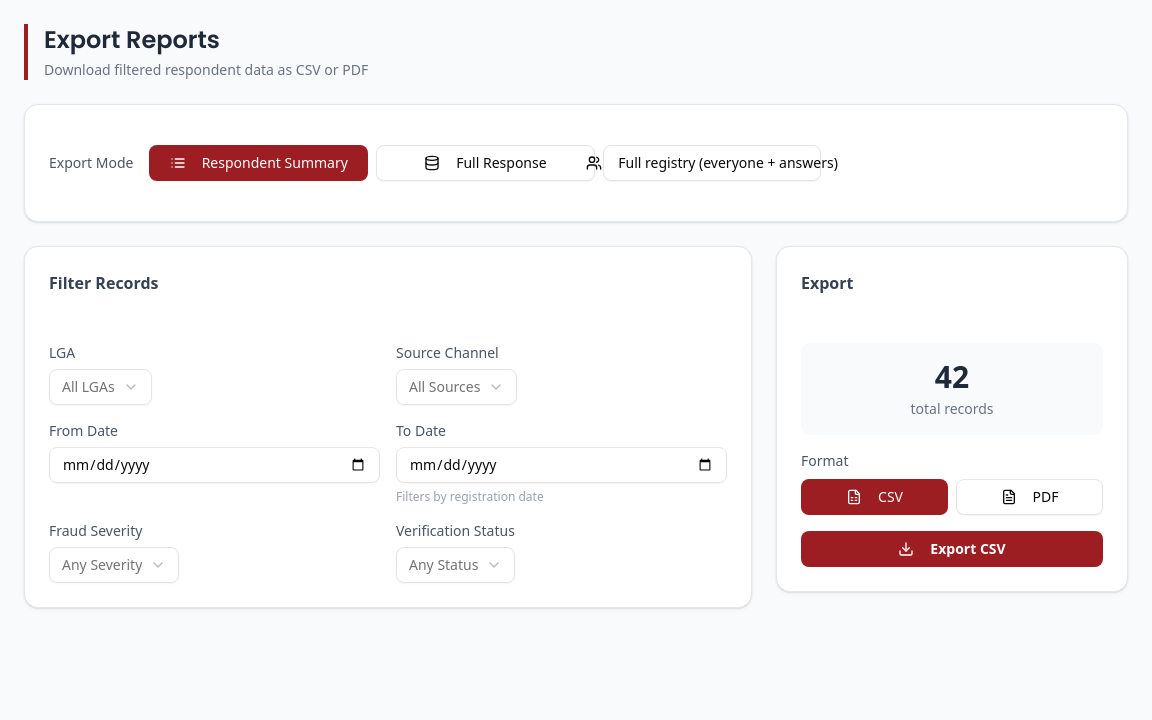
ExportPage › format toggle switches between CSV and PDF
This screenshot has width=1152, height=720.
Check: the button with test id "format-csv" is shown, box x1=801 y1=479 x2=948 y2=515
# CSV is default selected
Click the button with test id "format-pdf" at (1030, 497), box x1=956 y1=479 x2=1103 y2=515
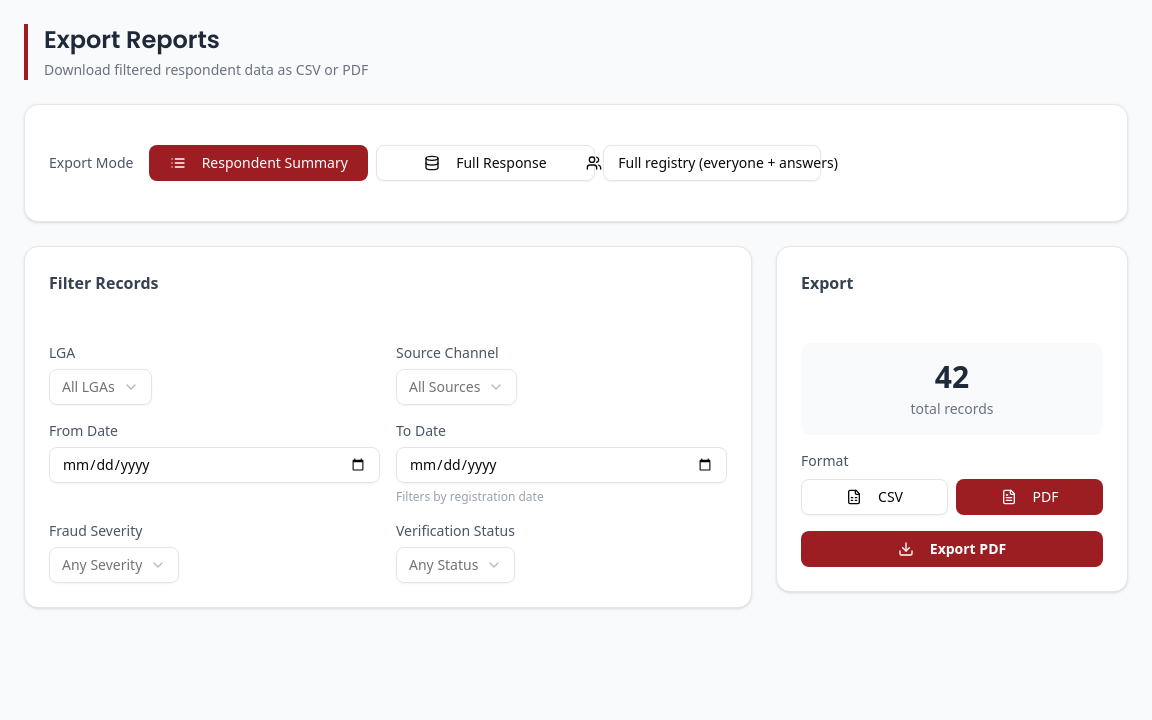
Check: the button with test id "export-button" reads "Export PDF", box x1=801 y1=531 x2=1103 y2=567
Click the button with test id "format-csv" at (874, 497), box x1=801 y1=479 x2=948 y2=515
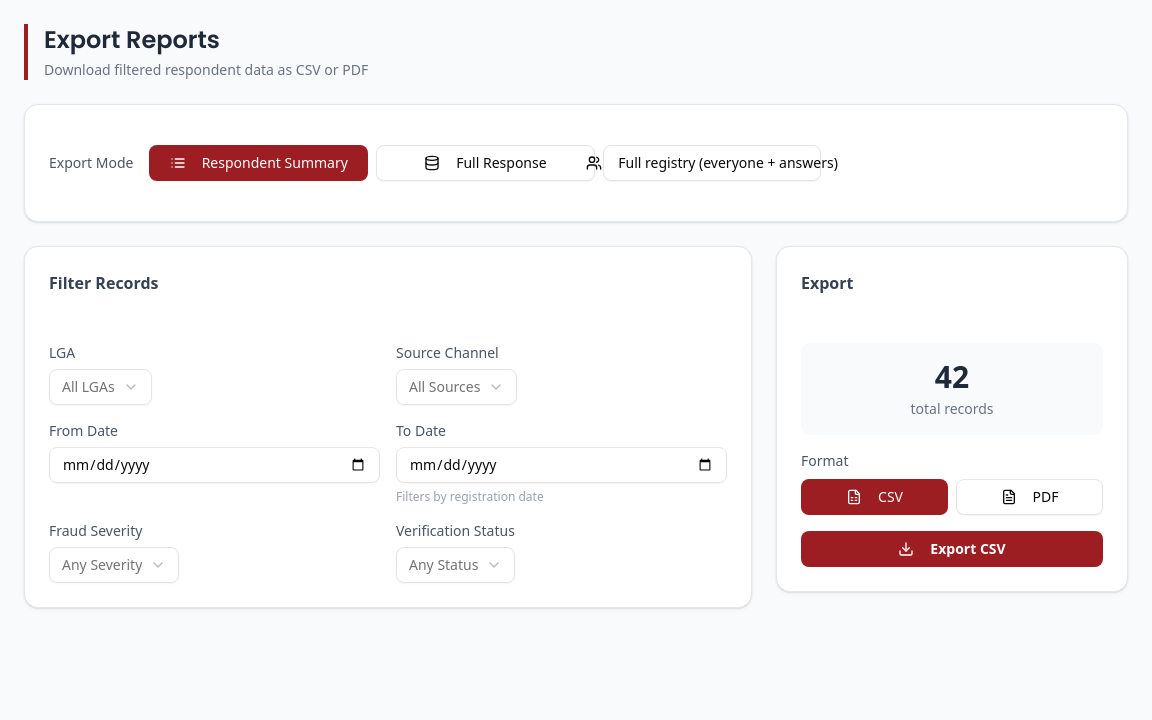
Check: the button with test id "export-button" reads "Export CSV", box x1=801 y1=531 x2=1103 y2=567
